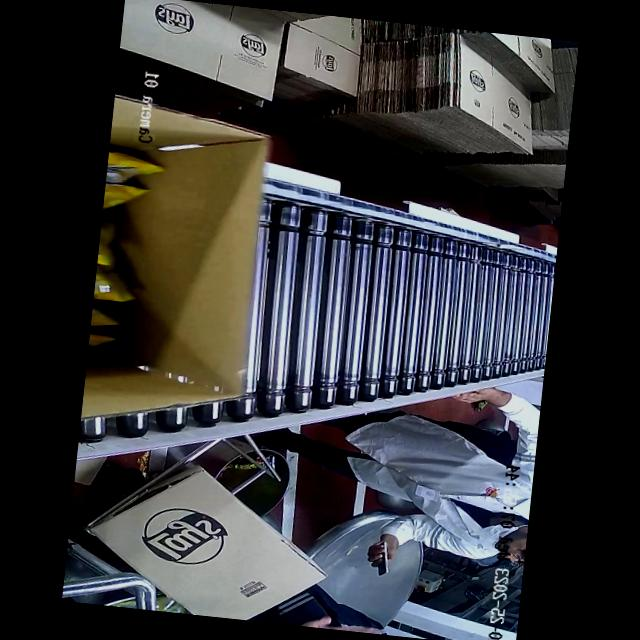salted: (86, 133, 190, 369)
